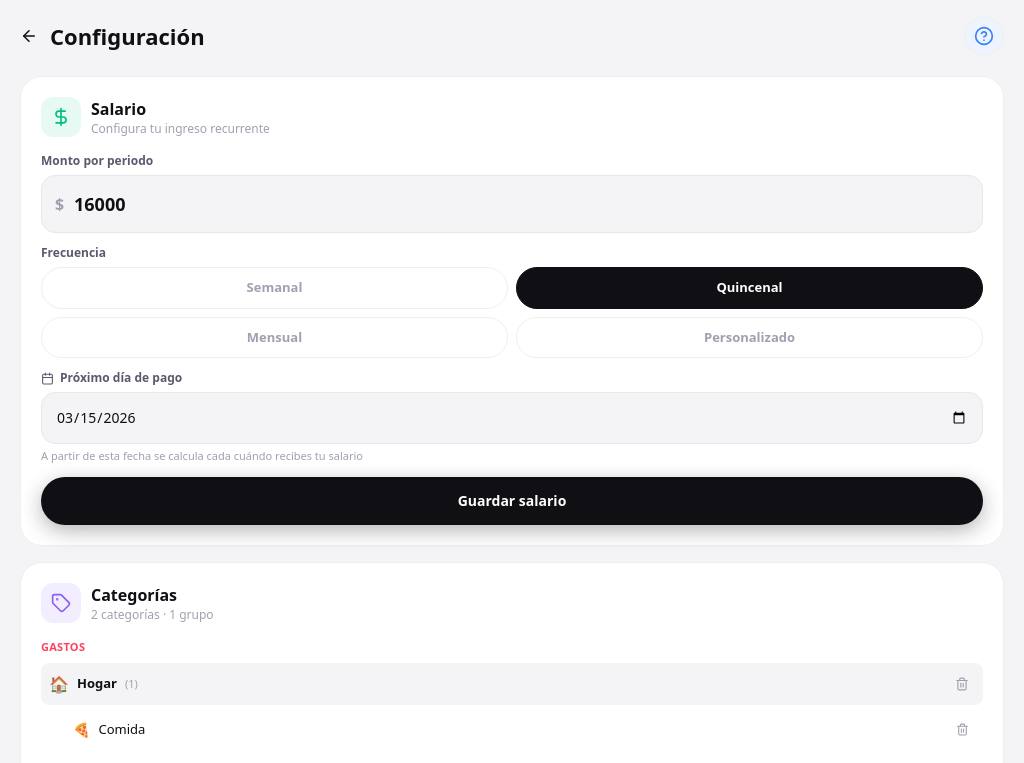
Settings Page › should show "Guardado" after successful save
This screenshot has width=1024, height=763.
Expected: the field showing "16000" is shown, [41,175,983,233]
Click the button "Guardar salario". click: (512, 500)
box: [41,476,983,524]
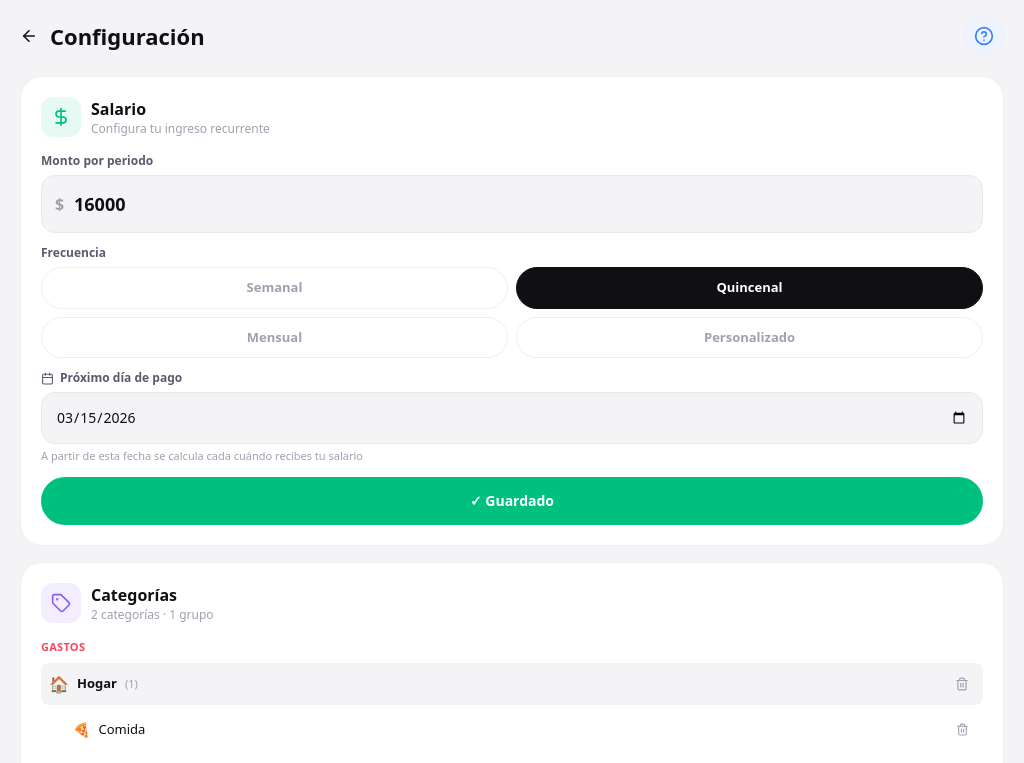
Expected: the button "✓ Guardado" is shown, [41,476,983,524]
